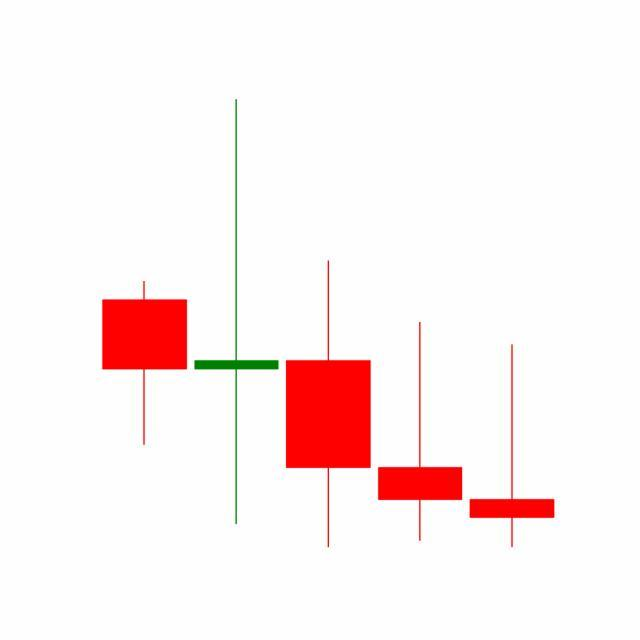Spinning Top: (466, 342, 559, 550)
